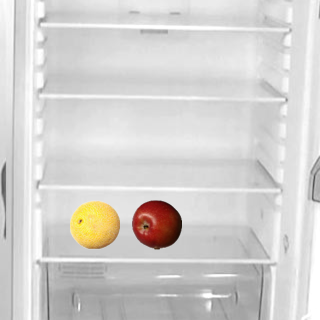Apple Braeburn: (131, 199, 181, 249)
Cantaloupe 1: (69, 199, 119, 249)
